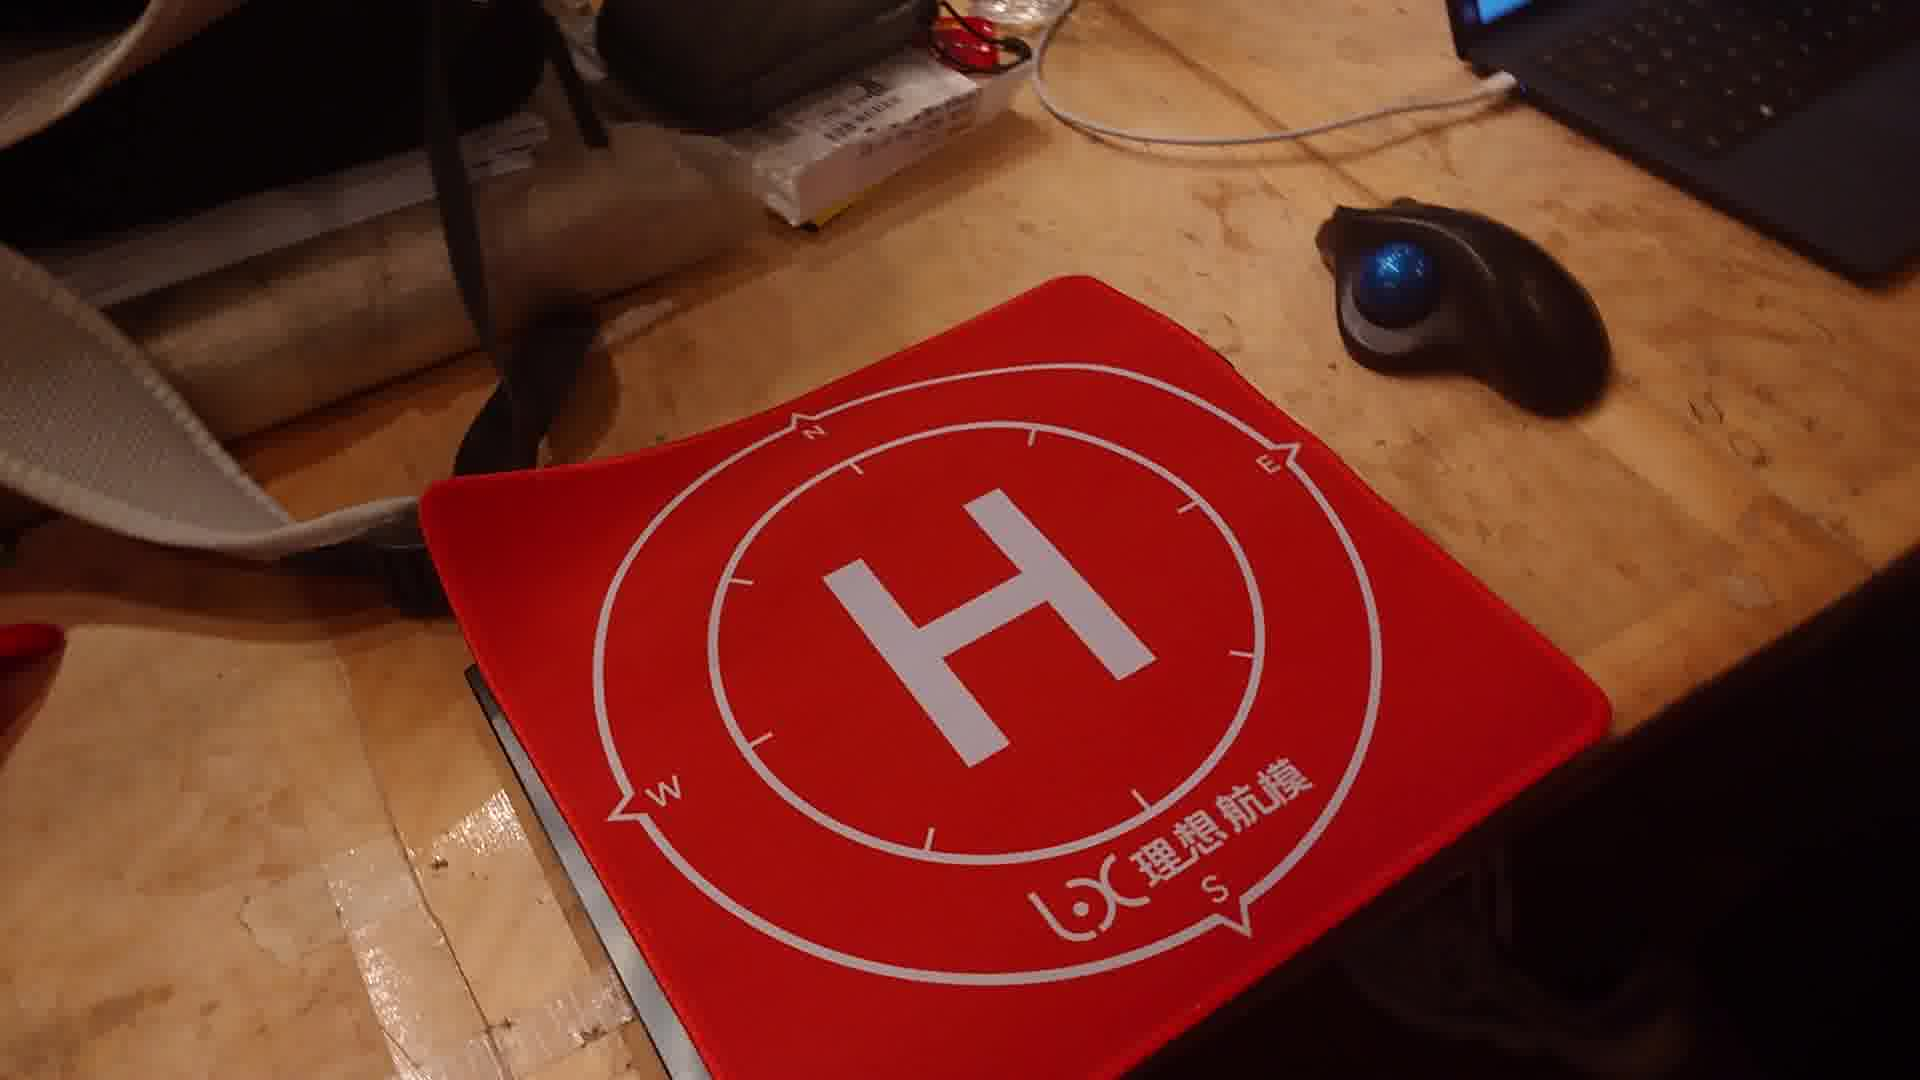H: (822, 488, 1162, 769)
